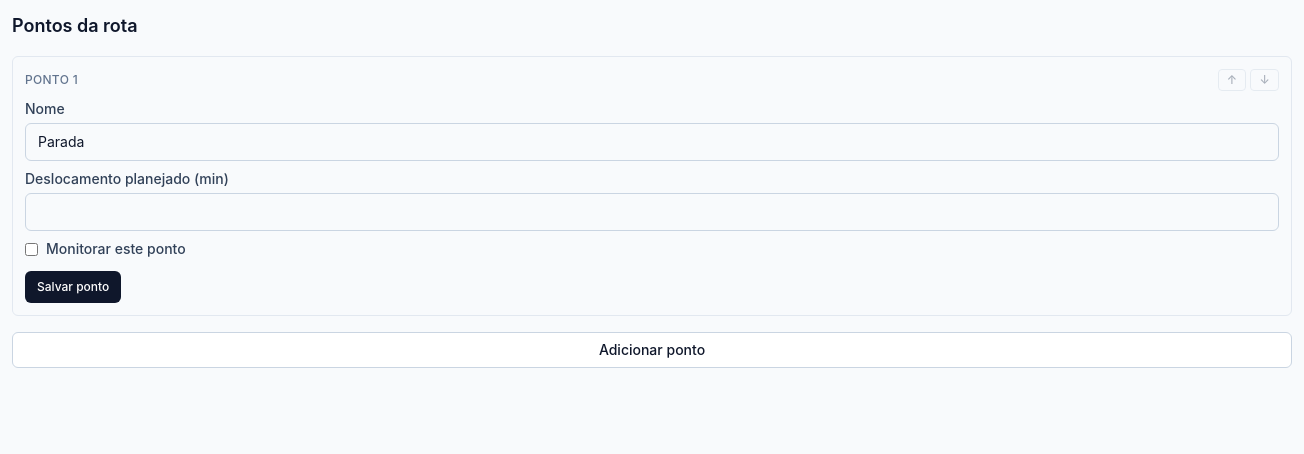
Test: RoutePointsEditor › toggling "Monitorar este ponto" shows/hides the checkpoint type selector
Check: the field labelled "Tipo de checkpoint" is not shown
Click the checkbox labelled "Monitorar este ponto" at (32, 249), box [25, 242, 38, 256]
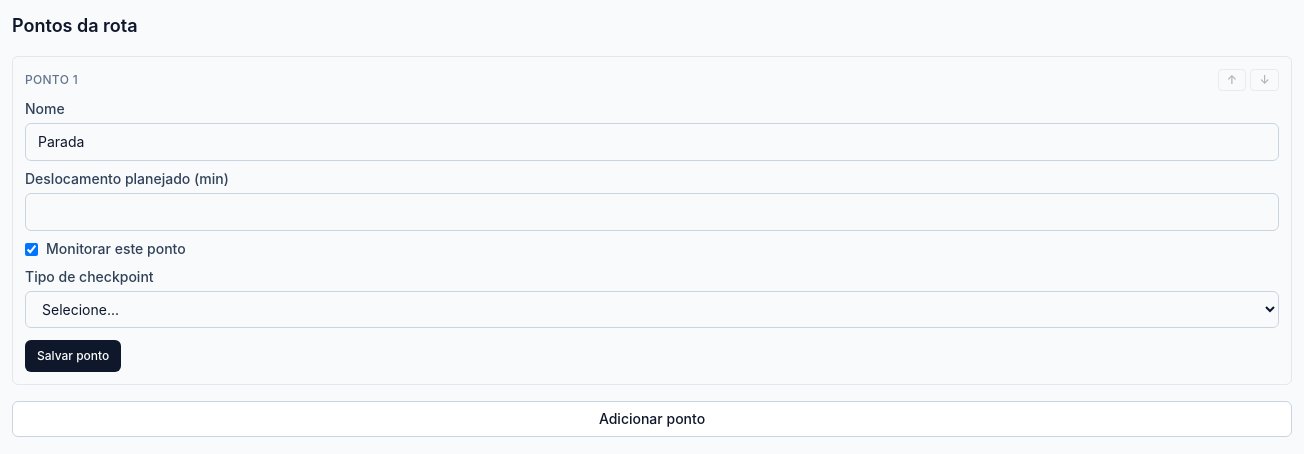
Check: the dropdown labelled "Tipo de checkpoint" is shown, box [25, 291, 1279, 328]
Click the checkbox labelled "Monitorar este ponto" at (32, 249), box [25, 242, 38, 256]
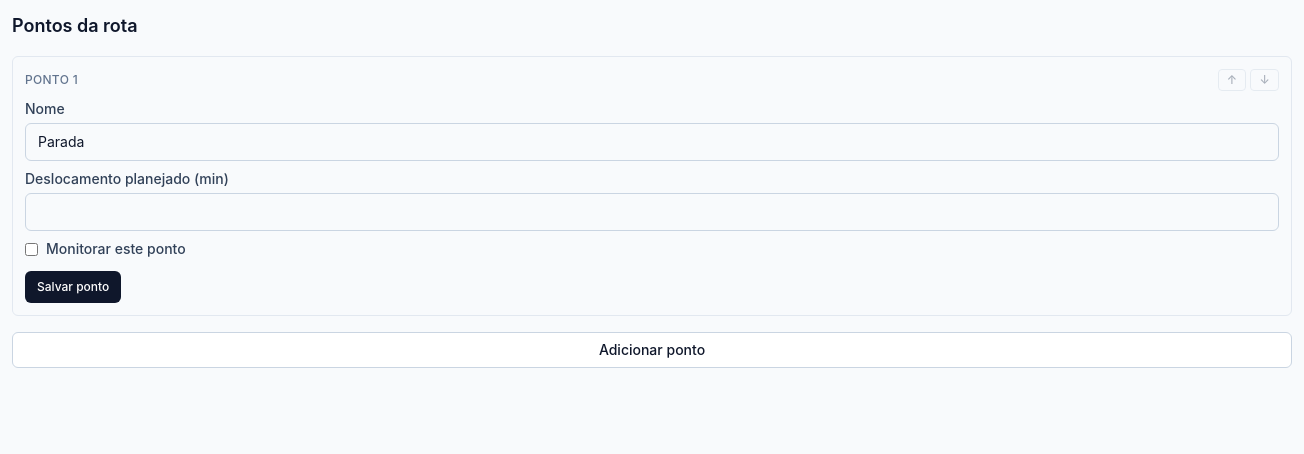
Check: the label labelled "Tipo de checkpoint" is gone
